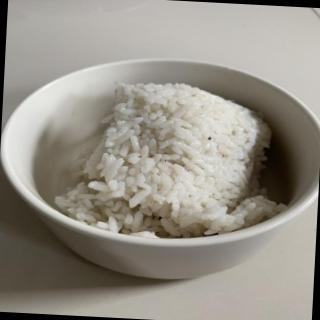Nasi: (57, 78, 295, 248)
